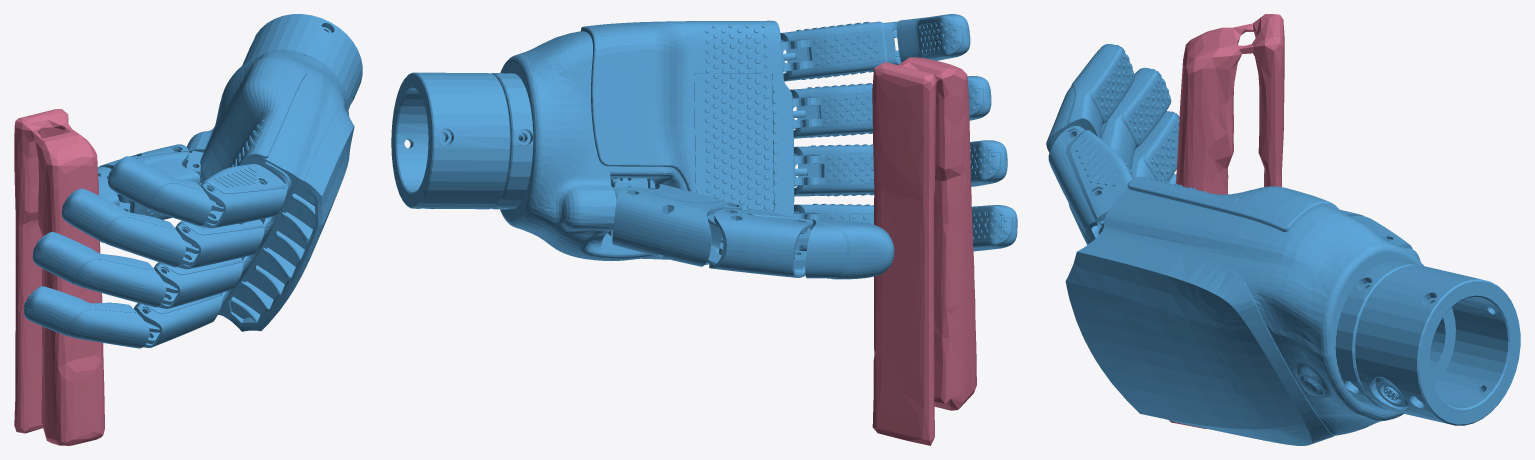
3 renders of one model, left to right at view 1: azimuth 30°, elevation 25°; view 2: azimuth 150°, elevation 25°; view 3: azimuth 270°, elevation 25°, orthographic. The views are drawn at different scales.
Visible parts, largest first — view 1: 0; view 2: 0; view 3: 0.
Part boxes in pixels (box(x1,y1,x2,y2)): 0: box(14, 14, 362, 445); 0: box(391, 14, 1017, 445); 0: box(1046, 14, 1520, 445).
Size of the model in its own units: 0.2158 by 0.1499 by 0.1593.
